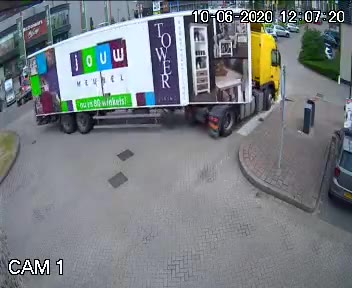car: (19, 10, 281, 147)
